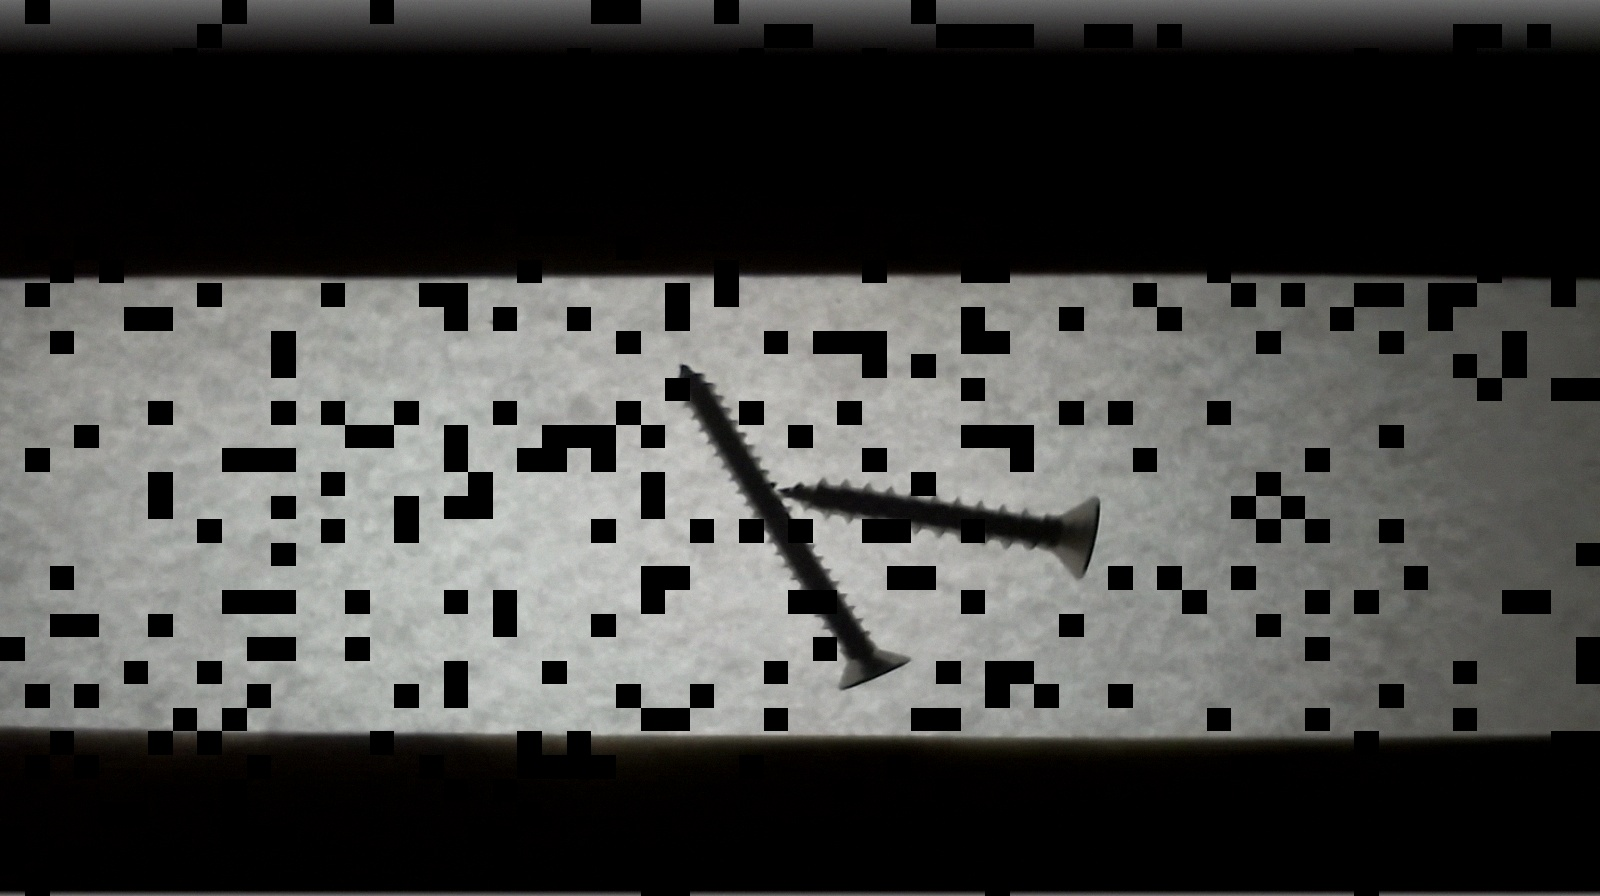S001: (773, 478, 1116, 588)
S002: (660, 357, 918, 697)
